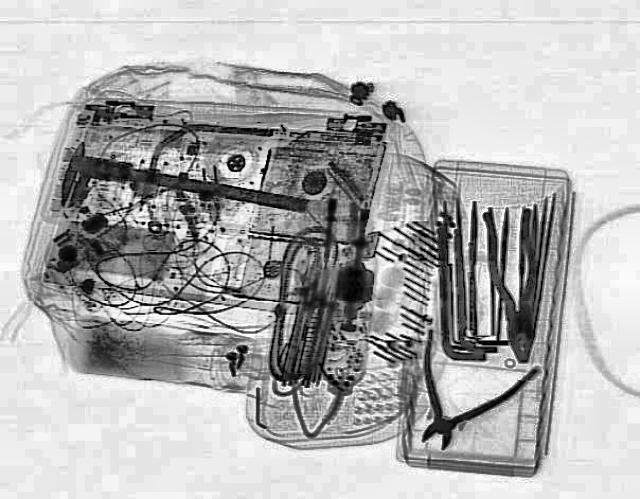Pliers: (378, 326, 544, 460), (478, 206, 552, 362)
